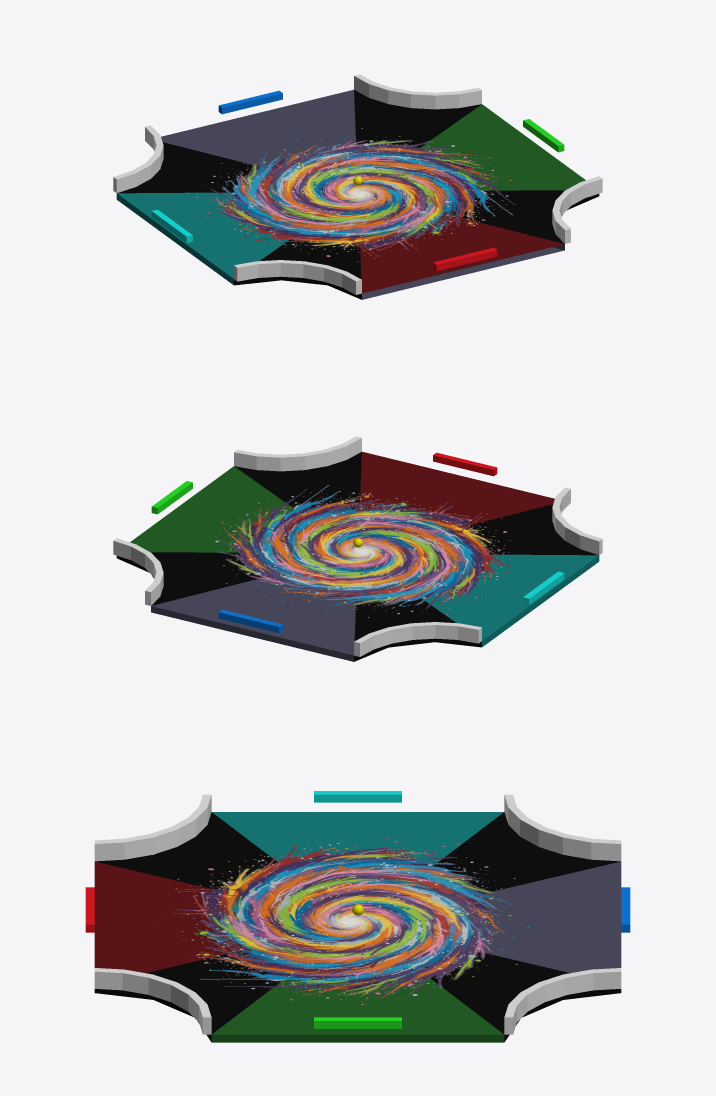
Rendered from pong4p.glb.
The picture shows the model from 3 angles, top to bottom: view 1: azimuth 30°, elevation 25°; view 2: azimuth 150°, elevation 25°; view 3: azimuth 270°, elevation 25°; orthographic projection. The views are drawn at different scales.
Parts seen in each view (by area): view 1: court, court-galaxy-alpha, wall.001, wall.002, wall.003, wall, paddle2, paddle1; view 2: court, court-galaxy-alpha, wall.003, wall, wall.001, wall.002, paddle2, paddle1; view 3: court, court-galaxy-alpha, wall, wall.002, wall.001, wall.003, paddle4, paddle3.
Boxes of the visible parts, x1,y1,x2,y2 form: court: [116, 89, 599, 299]; court-galaxy-alpha: [182, 128, 515, 265]; wall.001: [354, 74, 481, 109]; wall.002: [234, 260, 361, 294]; wall.003: [552, 176, 602, 243]; wall: [113, 125, 163, 192]; paddle2: [218, 90, 282, 114]; paddle1: [433, 247, 497, 271]; court: [116, 451, 599, 661]; court-galaxy-alpha: [210, 485, 515, 618]; wall.003: [234, 436, 361, 471]; wall: [354, 622, 481, 656]; wall.001: [113, 538, 163, 605]; wall.002: [552, 487, 602, 554]; paddle2: [218, 609, 282, 633]; paddle1: [433, 452, 497, 476]; court: [94, 812, 621, 1042]; court-galaxy-alpha: [161, 837, 531, 1006]; wall: [504, 794, 621, 861]; wall.002: [94, 794, 211, 861]; wall.001: [504, 968, 621, 1034]; wall.003: [94, 968, 211, 1034]; paddle4: [314, 791, 401, 802]; paddle3: [314, 1017, 401, 1028].
Bounding box in the file's own units: 23.51 × 2 × 23.5.
Materials: 13 (1 with a texture image).
